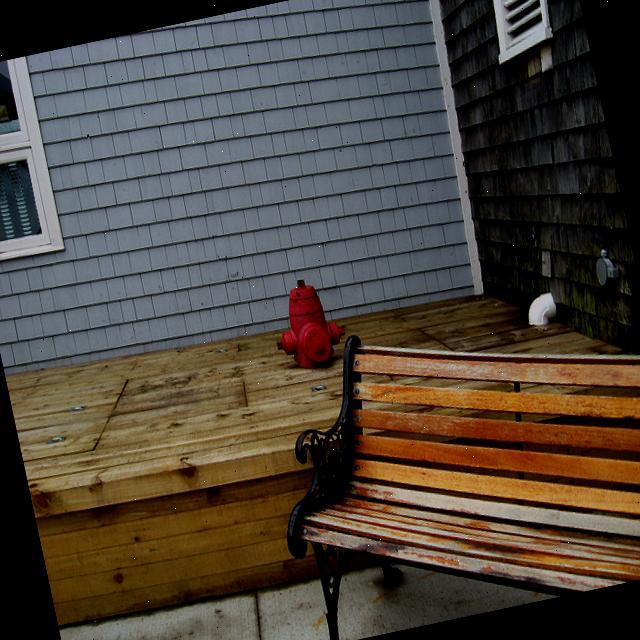fire_hydrant: (264, 273, 350, 373)
